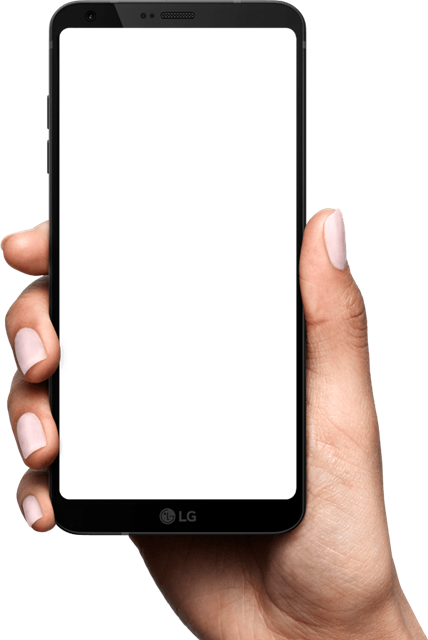phone: (1, 1, 402, 622)
